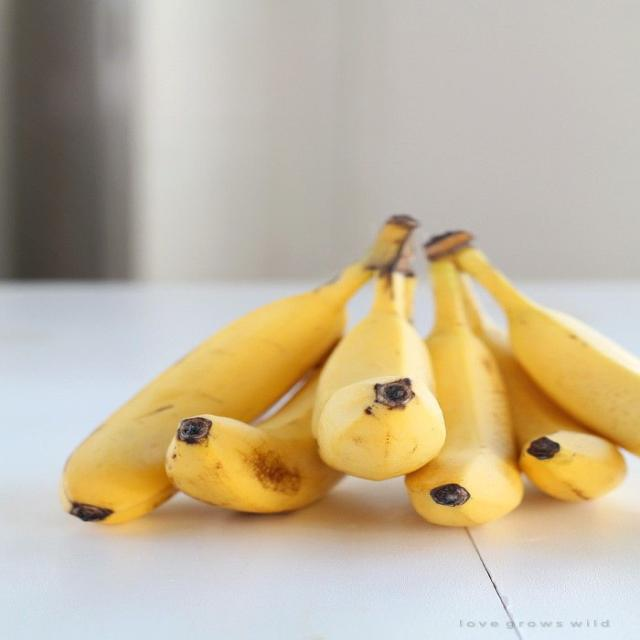unpeal banana: (61, 217, 416, 523), (433, 232, 639, 454), (463, 277, 626, 501), (406, 261, 522, 526), (314, 268, 445, 480), (166, 374, 341, 513)
